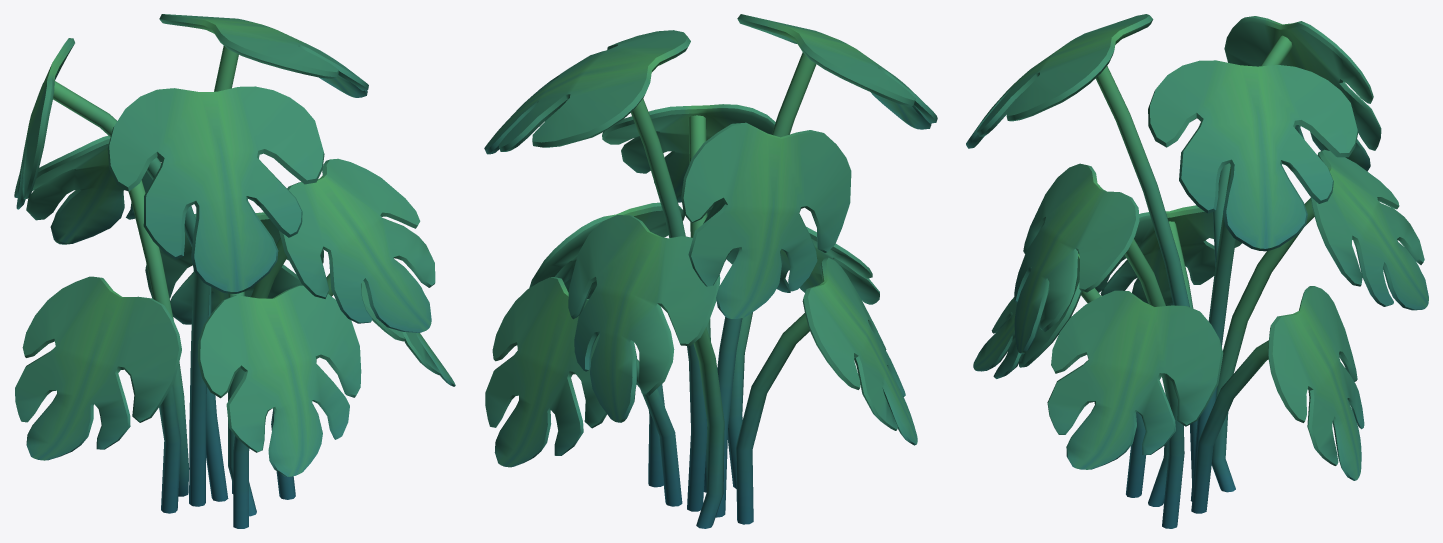
The model's file is monstera2.glb.
3 views of the same model, side by side, from view 1: azimuth 30°, elevation 25°; view 2: azimuth 150°, elevation 25°; view 3: azimuth 270°, elevation 25° (orthographic). The views are drawn at different scales.
Visible parts, largest first — view 1: monstera_plant_large; view 2: monstera_plant_large; view 3: monstera_plant_large.
Part boxes in pixels (x1=…): monstera_plant_large: x1=14, y1=14, x2=455, y2=528; monstera_plant_large: x1=484, y1=14, x2=937, y2=528; monstera_plant_large: x1=966, y1=14, x2=1428, y2=528.
Size of the model in its own units: 2.59 by 2.96 by 2.79.
1 material, 1 textured.
